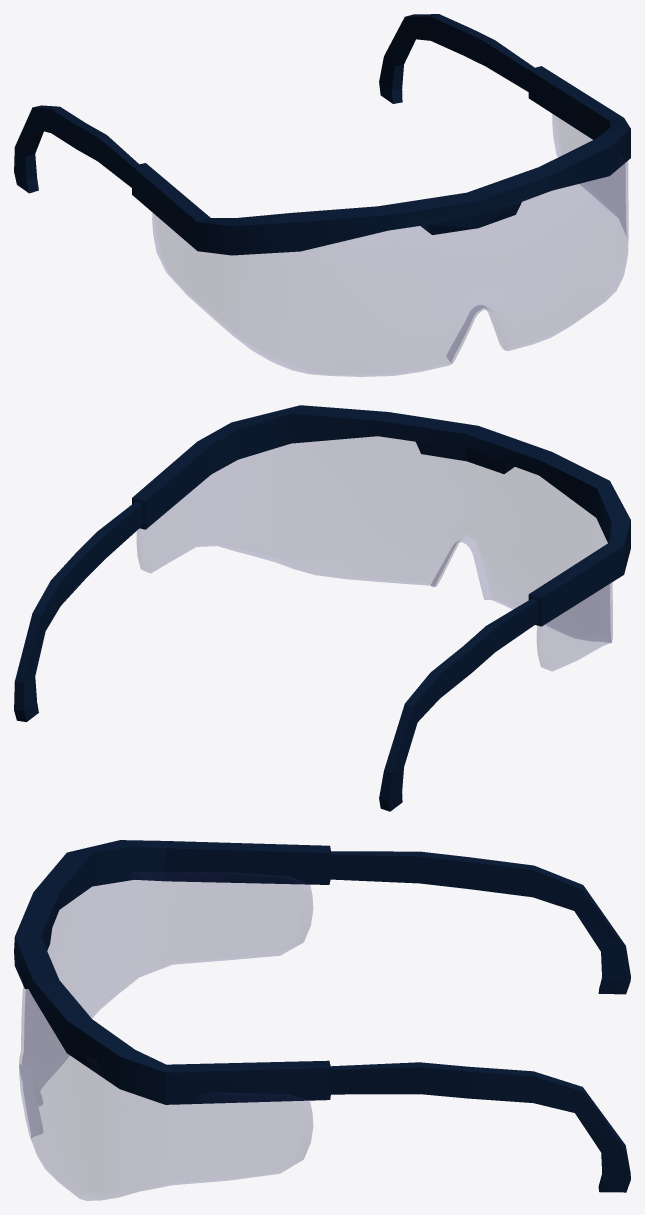
The model's file is SafetyGlasses.fbx.
3 views of the same model, one above another, from view 1: azimuth 30°, elevation 25°; view 2: azimuth 150°, elevation 25°; view 3: azimuth 270°, elevation 25° (orthographic). The views are drawn at different scales.
Parts seen in each view (by area): view 1: SafetyGlasses_Glass, SafetyGlasses_Frames; view 2: SafetyGlasses_Glass, SafetyGlasses_Frames; view 3: SafetyGlasses_Glass, SafetyGlasses_Frames.
Boxes of the visible parts, x1,y1,x2,y2 form: SafetyGlasses_Glass: (152, 114, 628, 376); SafetyGlasses_Frames: (14, 14, 630, 255); SafetyGlasses_Glass: (136, 436, 612, 671); SafetyGlasses_Frames: (14, 405, 630, 811); SafetyGlasses_Glass: (19, 872, 312, 1200); SafetyGlasses_Frames: (14, 840, 630, 1192).
Bounding box in the file's own units: 4.98 × 1.87 × 5.61.
